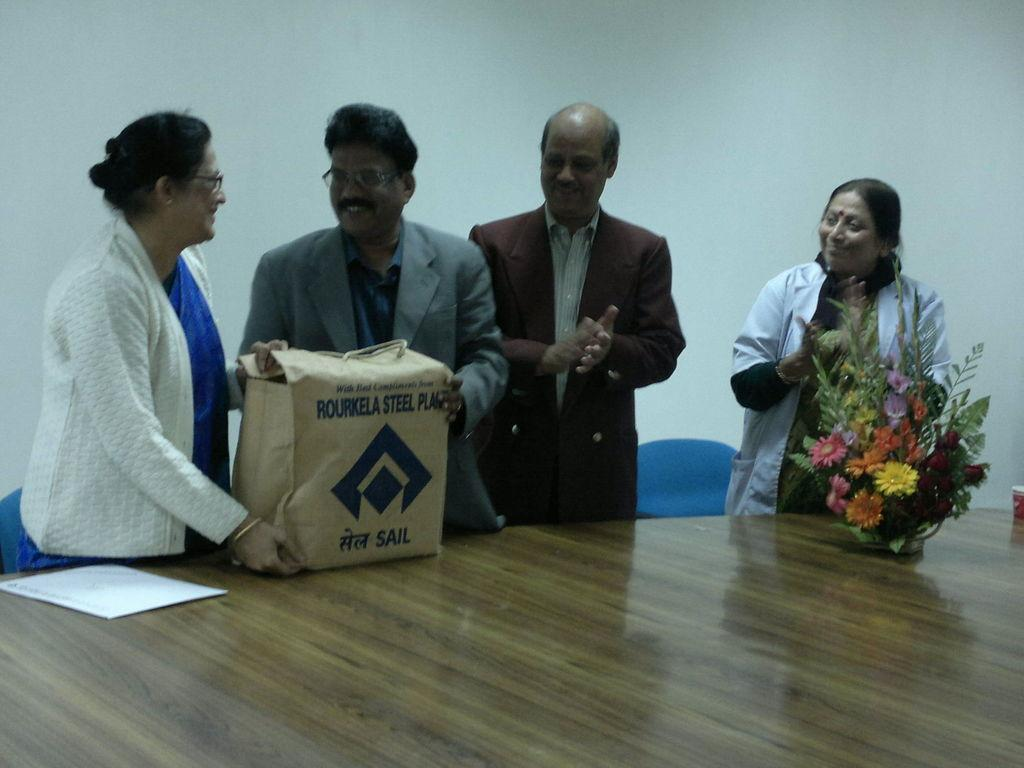Luggage-and-bags: (232, 329, 452, 570)
